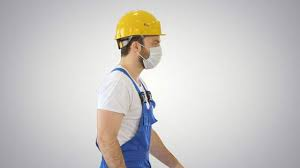Helmet: (111, 13, 164, 36)
Jacket: (99, 69, 157, 168)
Mask: (133, 42, 169, 67)
